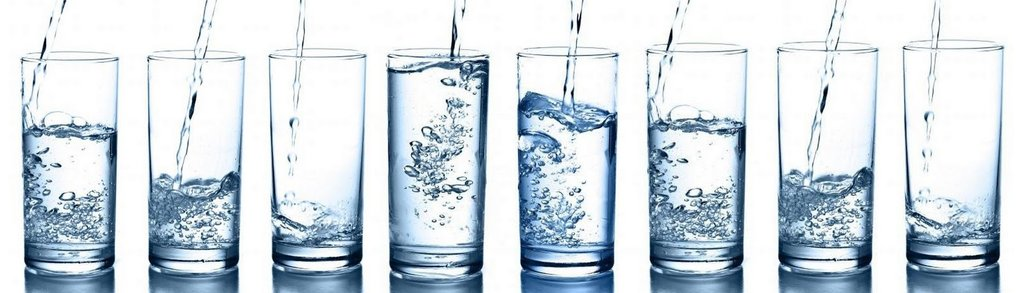glass of water: (900, 37, 1001, 270), (641, 46, 744, 274), (515, 50, 617, 277), (387, 50, 484, 277), (20, 55, 119, 274), (267, 50, 363, 272), (148, 51, 244, 272), (781, 44, 872, 274)
